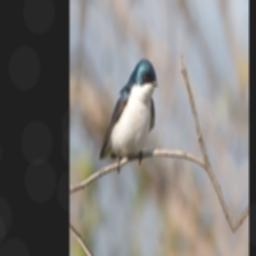Swallow: (97, 44, 159, 186)
